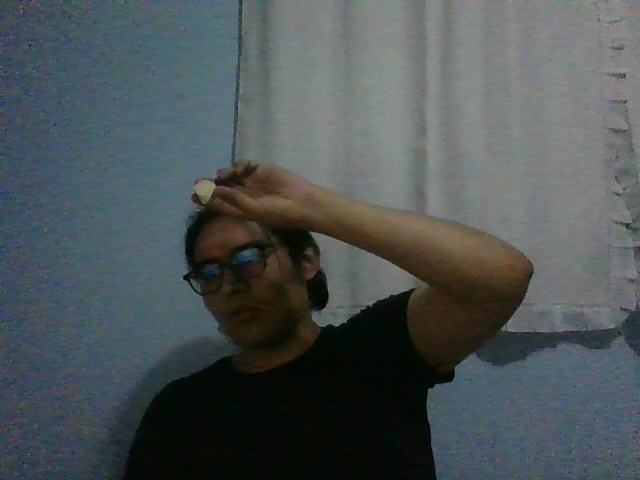goma: (194, 180, 216, 205)
